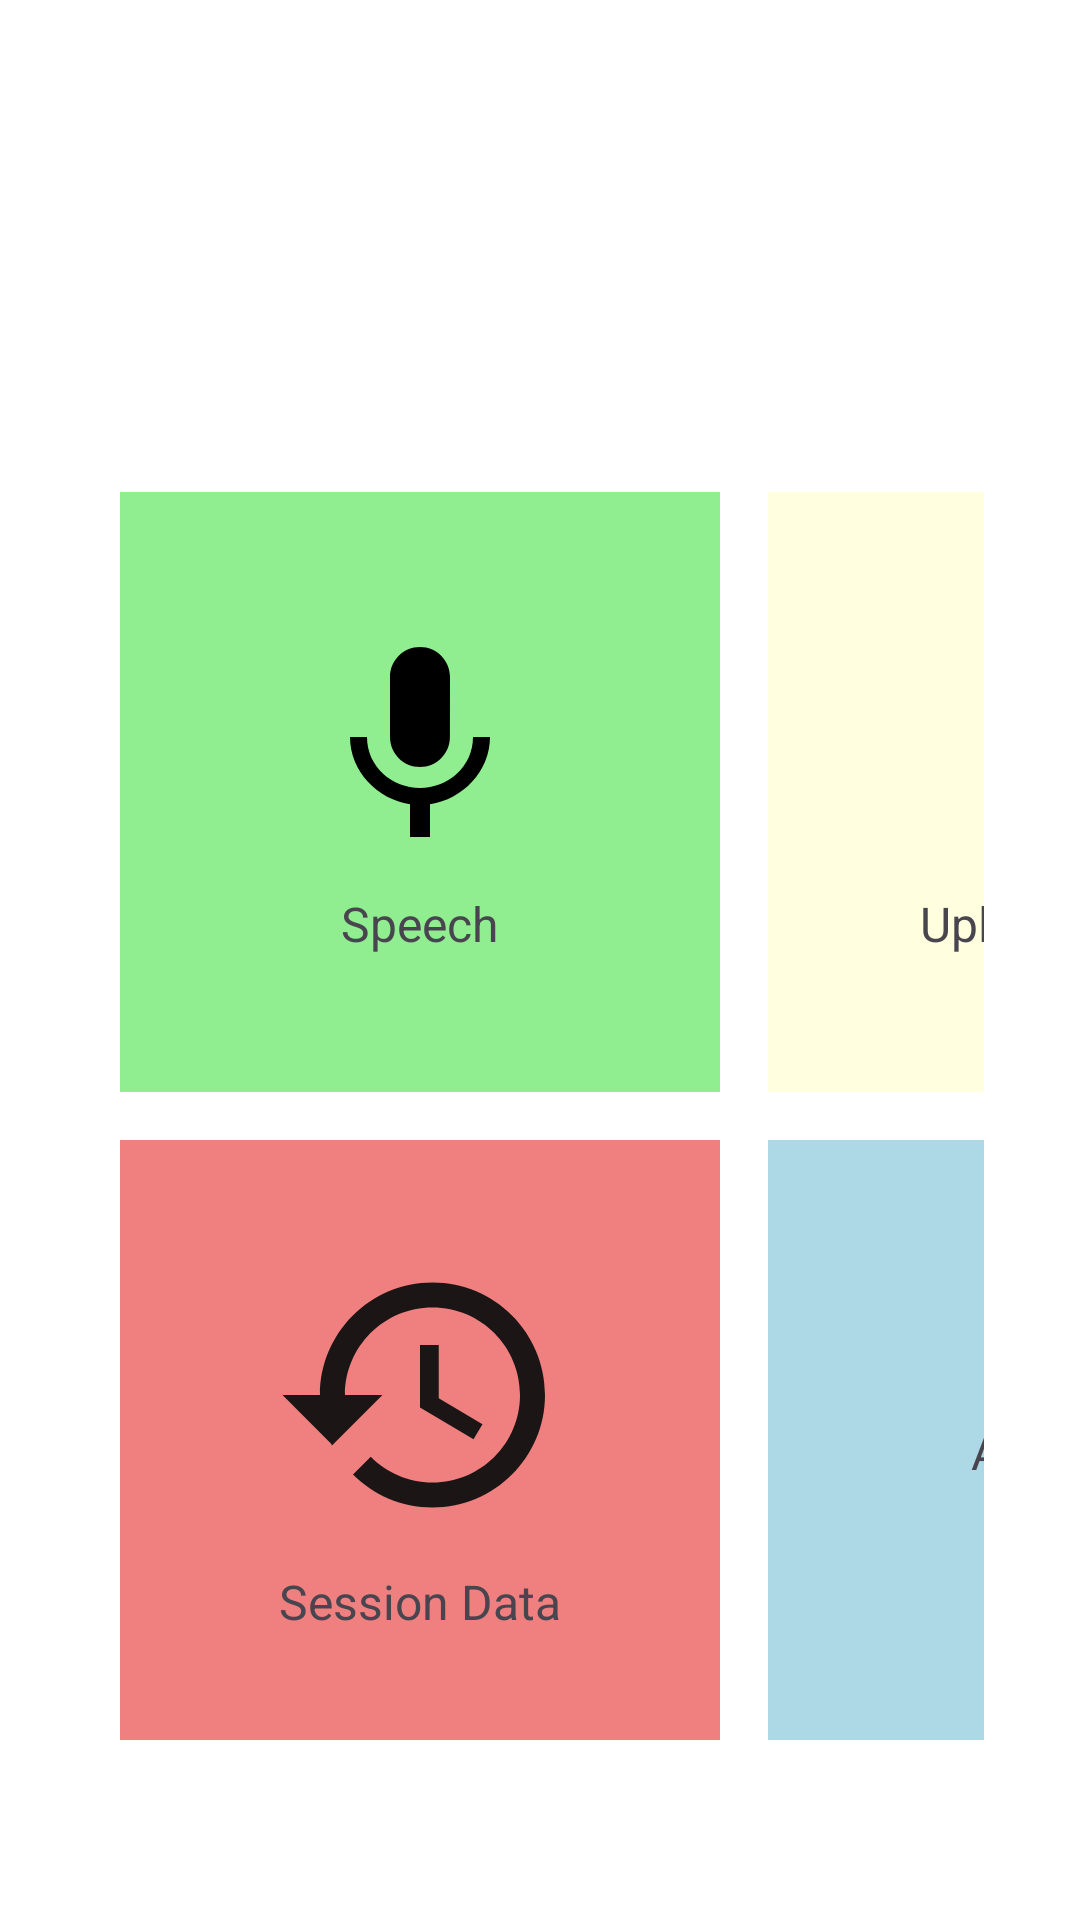

Screen size 1080px x 1920px. Icon name, then its center in pixels as (x=x, y=y):
history: (x=413, y=1395)
mic: (x=420, y=742)
